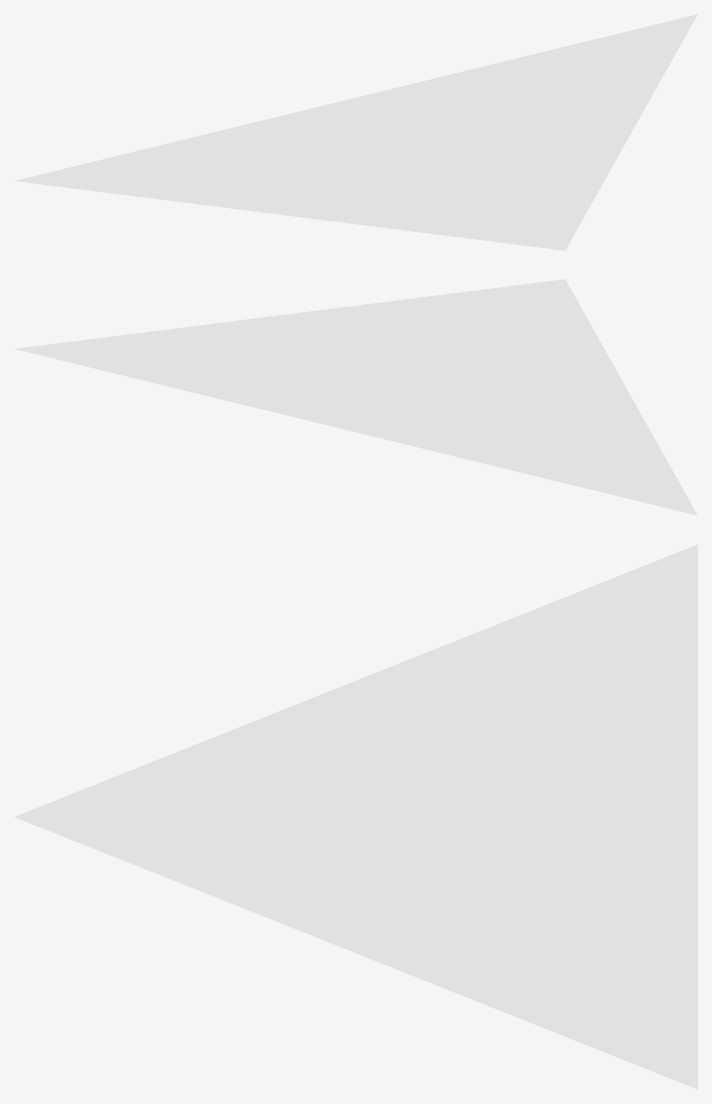
Rendered from PDS_Disc.glb.
3 views of the same model, one above another, from view 1: azimuth 30°, elevation 25°; view 2: azimuth 150°, elevation 25°; view 3: azimuth 270°, elevation 25° (orthographic). The views are drawn at different scales.
Parts seen in each view (by area): view 1: PDS_Disc_part00; view 2: PDS_Disc_part00; view 3: PDS_Disc_part00.
Boxes of the visible parts, x1,y1,x2,y2 form: PDS_Disc_part00: [15, 14, 697, 250]; PDS_Disc_part00: [15, 279, 697, 515]; PDS_Disc_part00: [14, 544, 697, 1089].
Bounding box in the file's own units: 0.2314 × 0 × 0.1227.
1 material, 1 textured.
